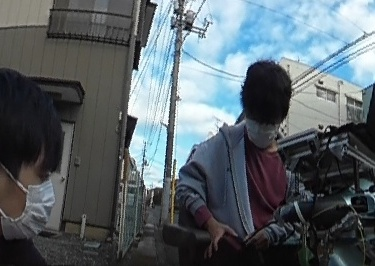person: (208, 64, 334, 266)
